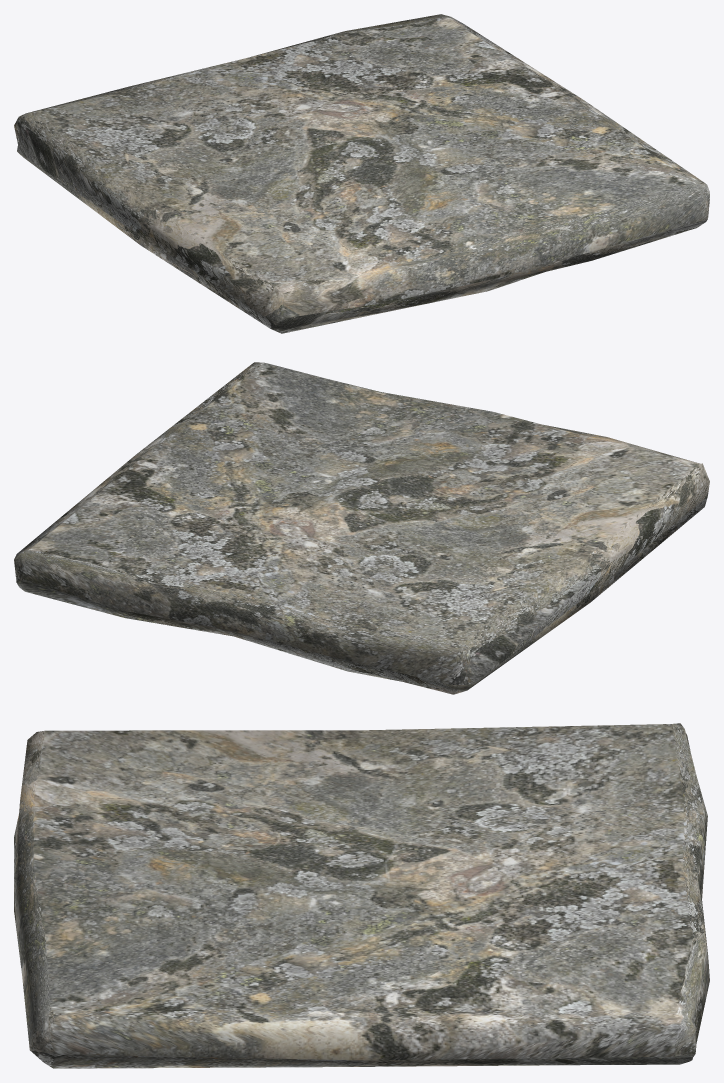
Rendered from Paving Stone 1.fbx.
3 views of the same model, one above another, from view 1: azimuth 30°, elevation 25°; view 2: azimuth 150°, elevation 25°; view 3: azimuth 270°, elevation 25° (orthographic). The views are drawn at different scales.
Parts seen in each view (by area): view 1: Stone 1; view 2: Stone 1; view 3: Stone 1.
Part boxes in pixels (box(x1,y1,x2,y2)): Stone 1: box(14, 14, 709, 333); Stone 1: box(14, 362, 709, 694); Stone 1: box(14, 723, 709, 1068).
Bounding box in the file's own units: 40.64 × 4.58 × 40.31.
